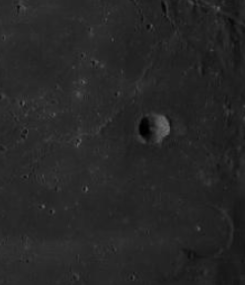crater: (117, 93, 194, 191)
